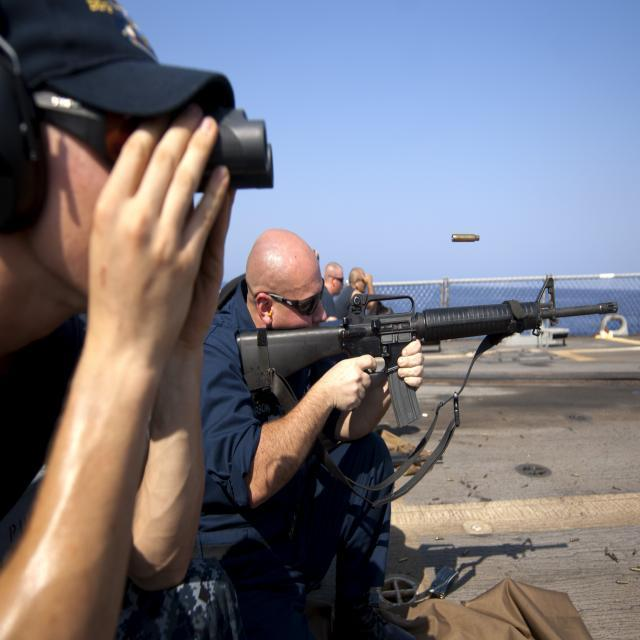m16: (214, 223, 626, 429)
